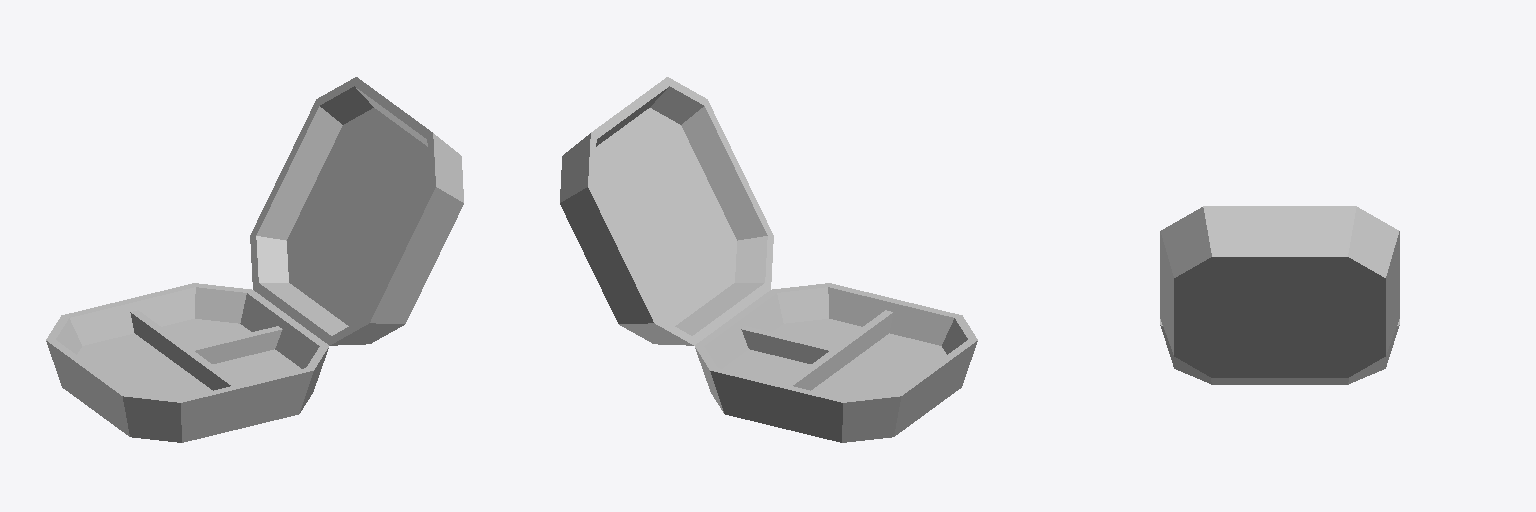
The model's file is styrofoam.obj.
The picture shows the model from 3 angles: view 1: azimuth 30°, elevation 25°; view 2: azimuth 150°, elevation 25°; view 3: azimuth 270°, elevation 25°; orthographic projection.
Visible parts, largest first — view 1: lid, styrofoam; view 2: lid, styrofoam; view 3: lid, styrofoam.
Boxes of the visible parts, box(x1,y1,x2,y2) form: lid: box(250, 77, 463, 345); styrofoam: box(46, 283, 328, 442); lid: box(560, 77, 773, 345); styrofoam: box(695, 283, 977, 442); lid: box(1160, 206, 1399, 377); styrofoam: box(1160, 319, 1399, 384).
Bounding box in the file's own units: 1.26 × 0.822 × 0.7589.